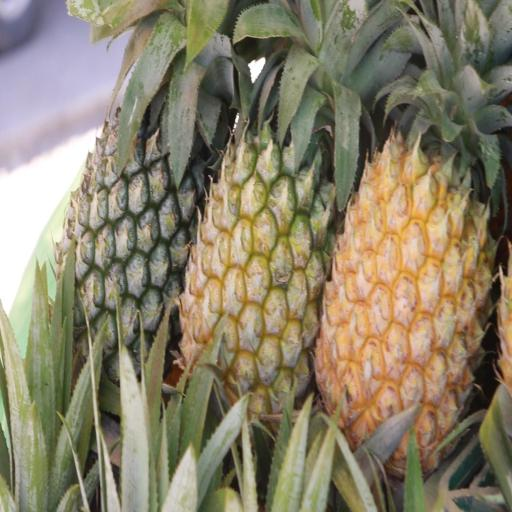------------------------------: (174, 0, 334, 432)
Pineapple - v8 v1: (310, 0, 494, 480)
